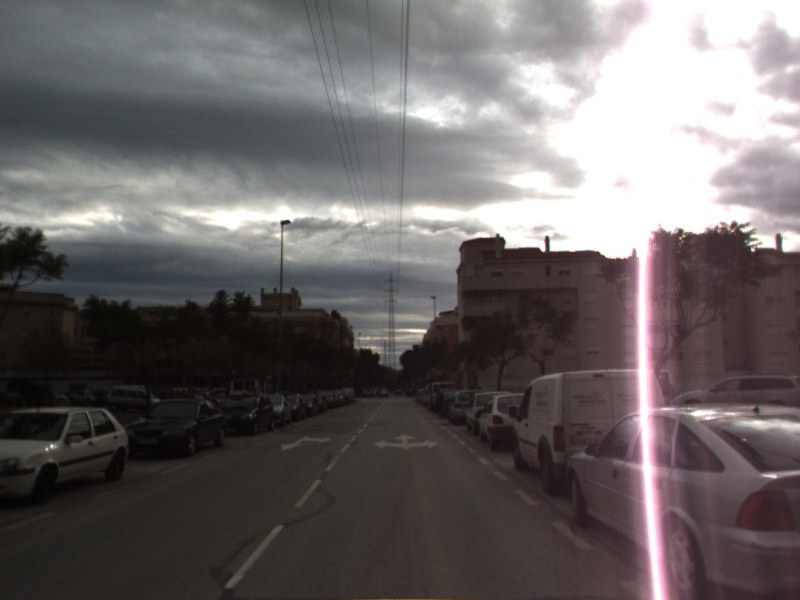STRAIGHT_LEFT_RIGHT: (371, 431, 441, 451)
